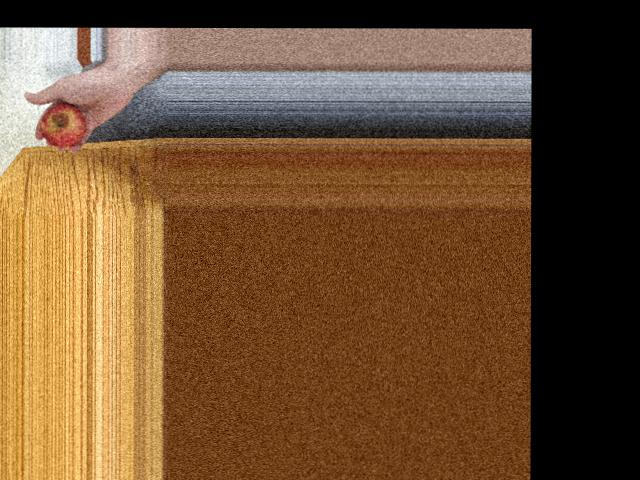apple: (37, 98, 91, 146)
